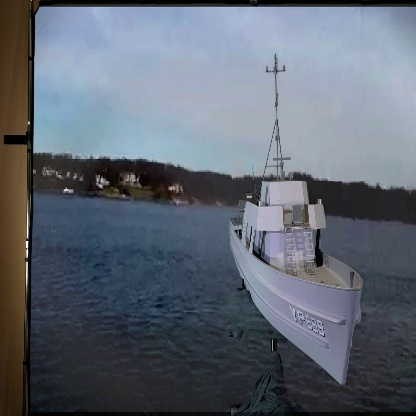YP689: (229, 52, 365, 387)
